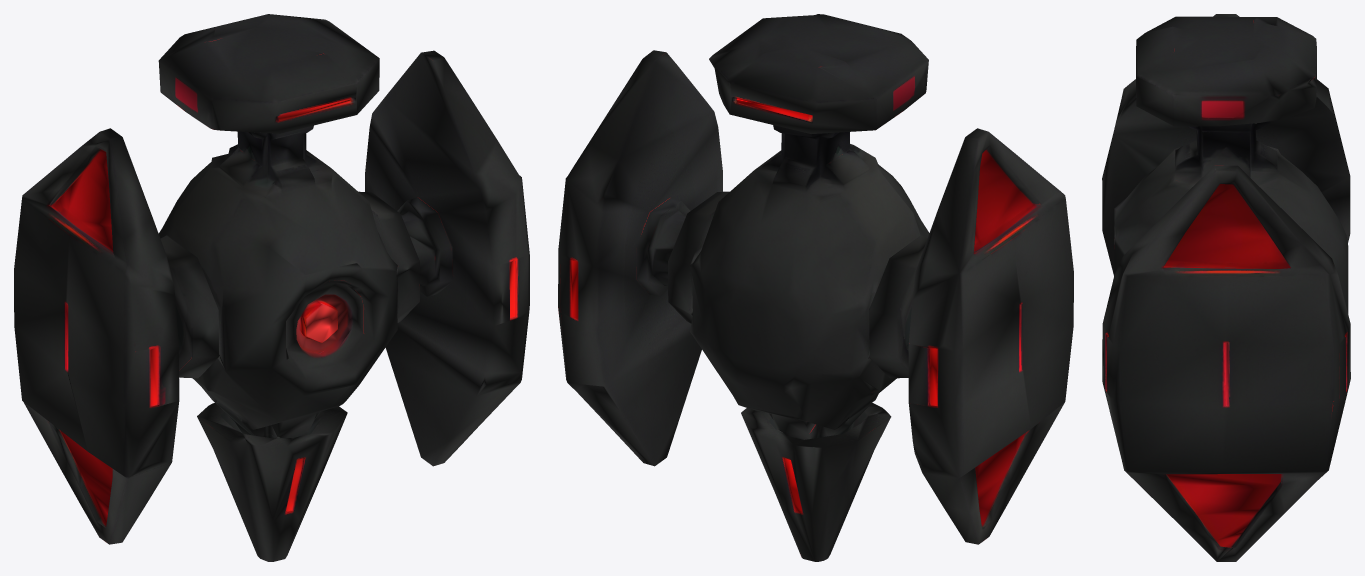
Rendered from Meshy_AI_Crimson_Core_Sentinel_0720160855_texture.fbx.
The picture shows the model from 3 angles, left to right: view 1: azimuth 30°, elevation 25°; view 2: azimuth 150°, elevation 25°; view 3: azimuth 270°, elevation 25°; orthographic projection. The views are drawn at different scales.
Parts seen in each view (by area): view 1: Mesh1.0; view 2: Mesh1.0; view 3: Mesh1.0.
Part boxes in pixels (left/top/right/bottom): Mesh1.0: left=14, top=14, right=529, bottom=561; Mesh1.0: left=558, top=14, right=1073, bottom=561; Mesh1.0: left=1102, top=14, right=1350, bottom=561.
Size of the model in its own units: 157 by 190 by 85.62.
Materials: 1 (1 with a texture image).
